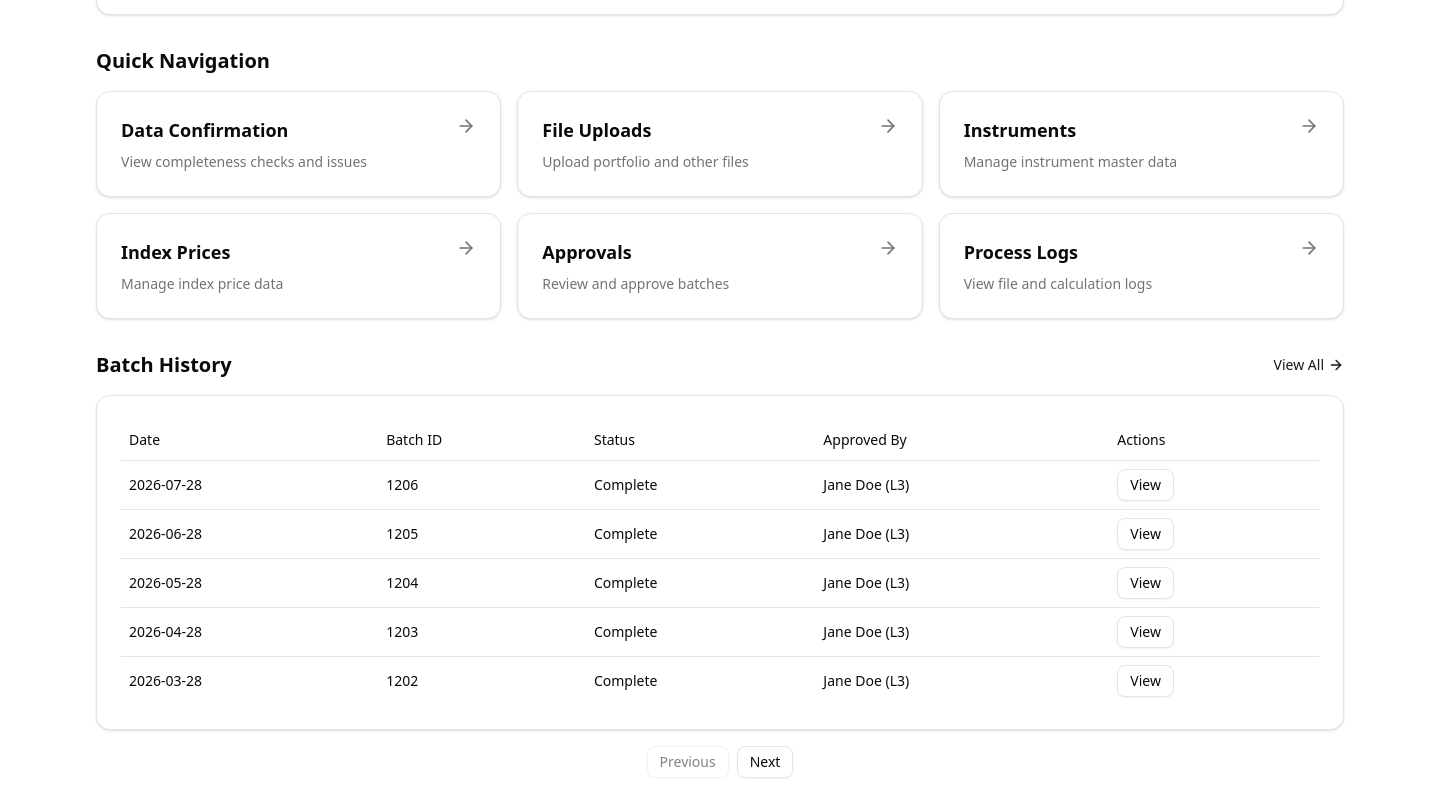
Test: HomePage - Batch History Table › Happy Path - Batch History Section Display › shows next page of results when "Next" button is clicked
(page scrolled)
Check: the navigation bar named "pagination" is shown, box top-left (647, 746), bottom-right (794, 778)
Click the button "Next" at (765, 762), box top-left (737, 746), bottom-right (793, 778)
(page scrolled)
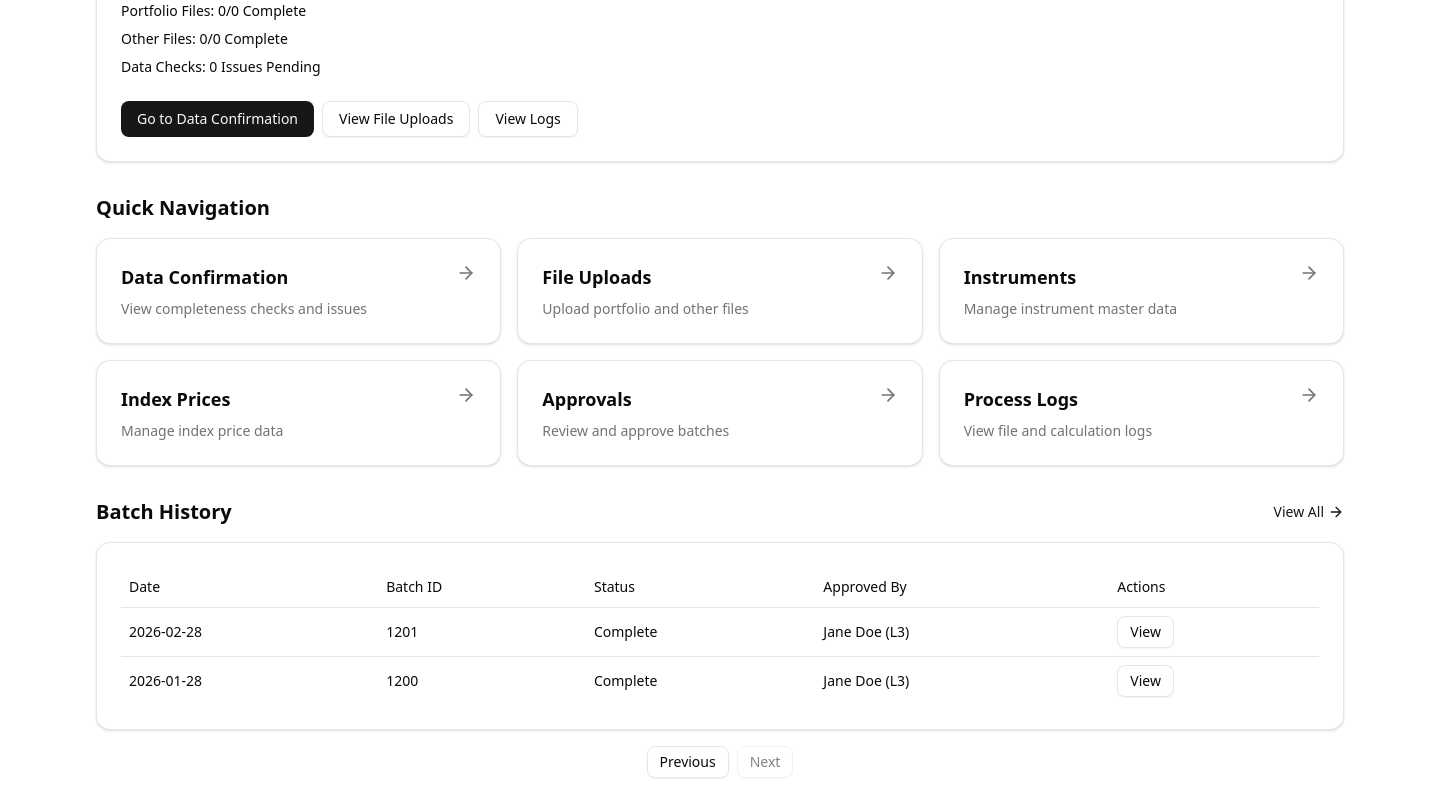
Check: the text "1201" is shown, box top-left (378, 607), bottom-right (586, 656)
Check: the text "1200" is shown, box top-left (378, 656), bottom-right (586, 704)
